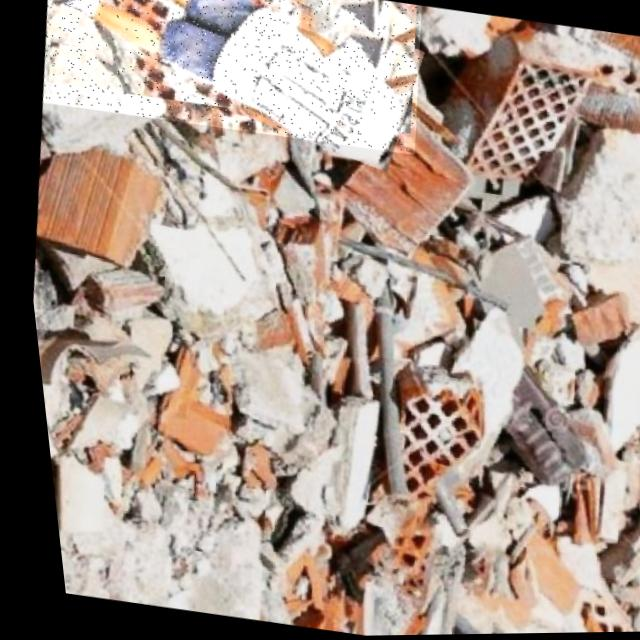Person in Rubble: (30, 0, 433, 161)
